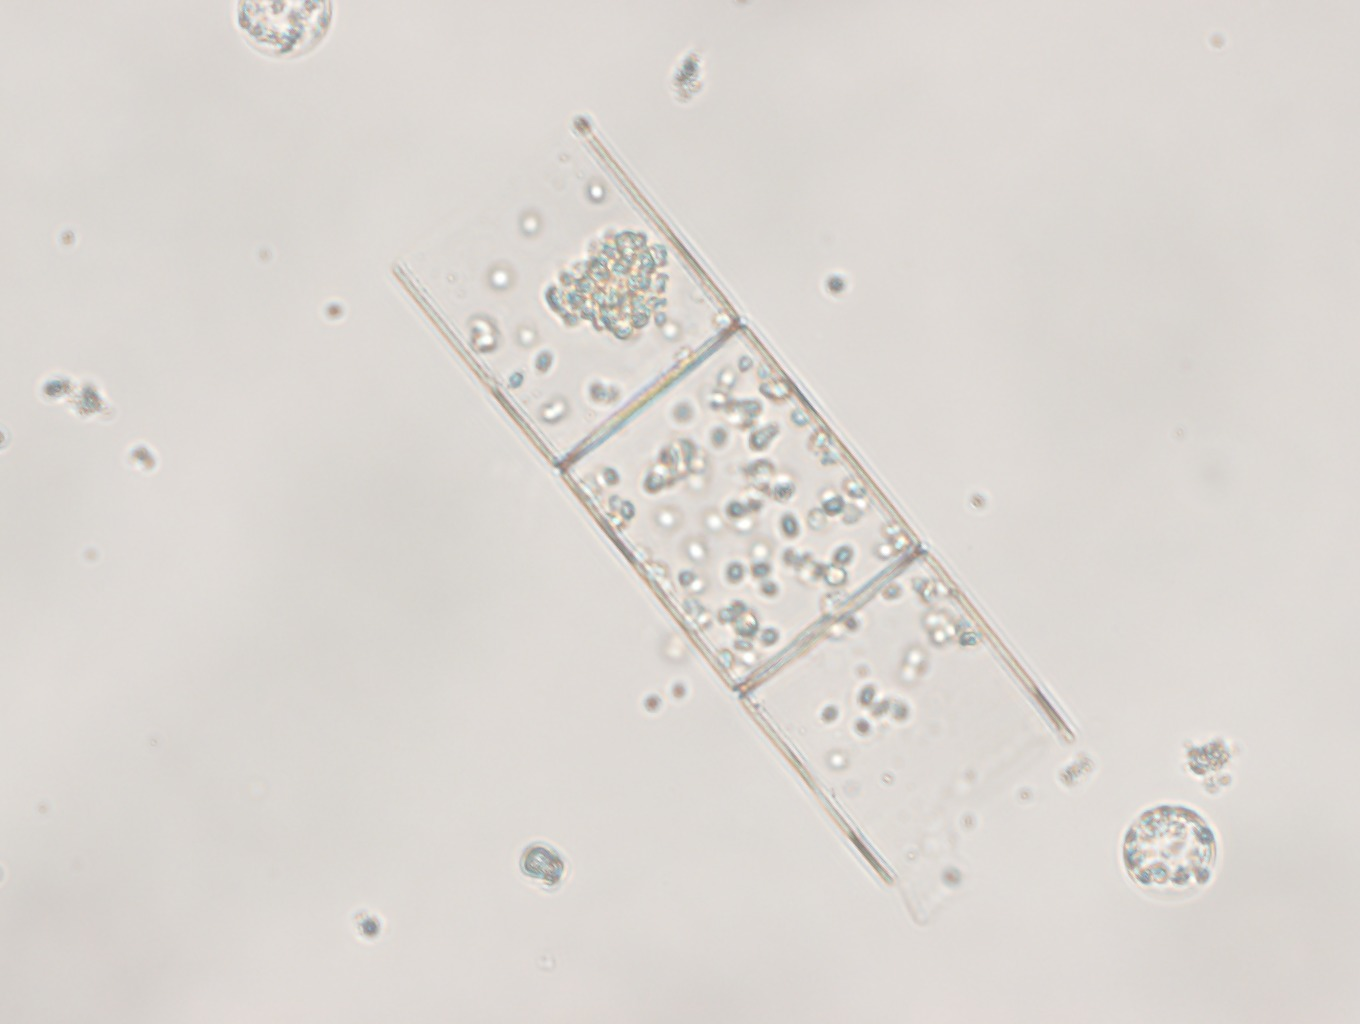guinardia flaccida: (393, 133, 1079, 891)
